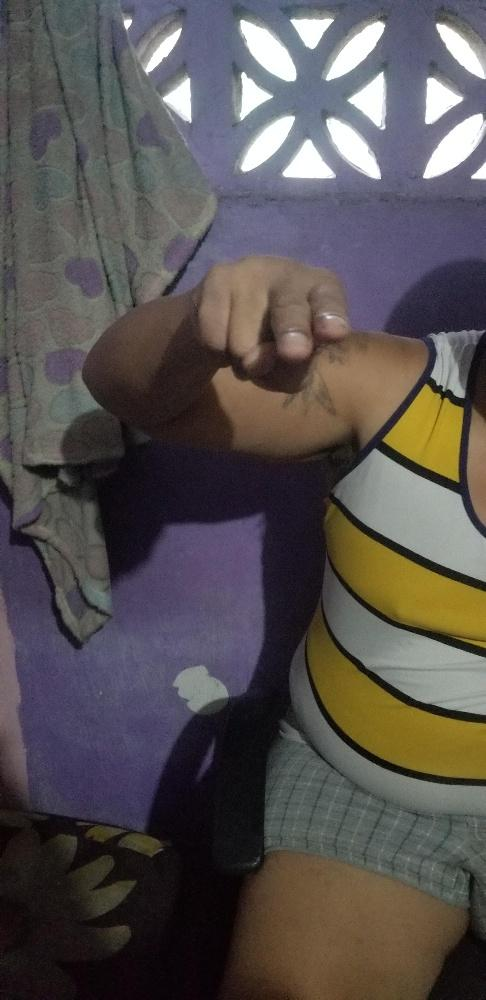n: (191, 253, 350, 395)
